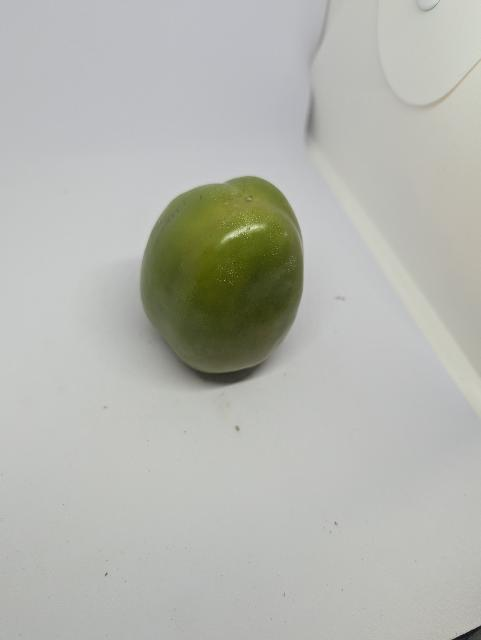green: (138, 167, 307, 384)
